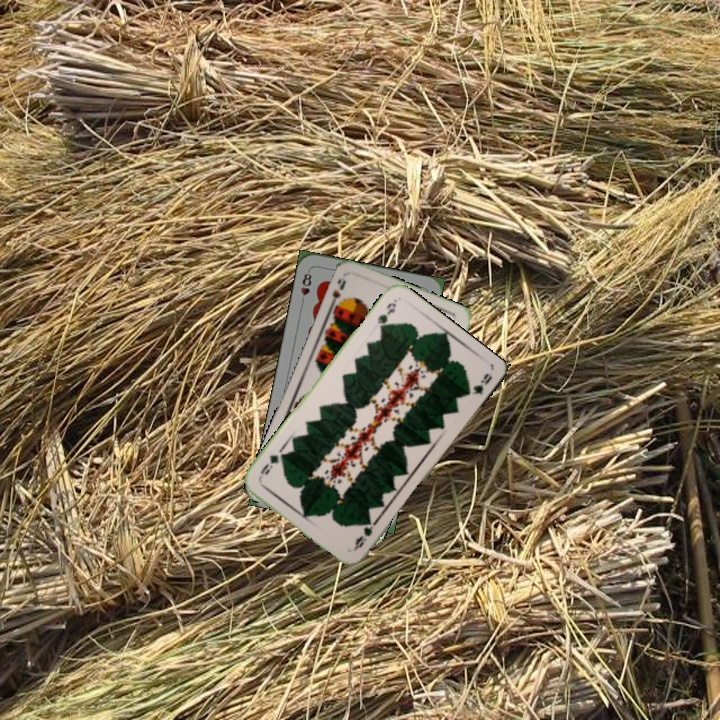G9: (349, 515, 378, 553), (373, 296, 399, 332)
H8: (297, 266, 314, 307)
S9: (325, 274, 348, 312)
